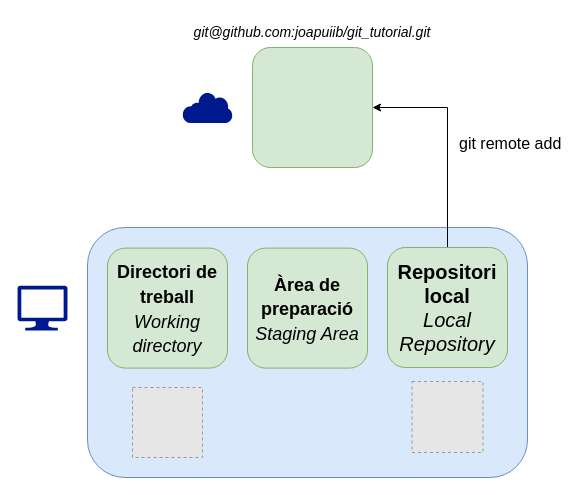
Some shapes in this 578 by 495 pixel diagram are drawn without their labels. Grey dashed boxes stand in for pictures. Each missing label, with the box of its shape:
Local - Entorn de desenvolupament: (86, 226, 528, 478)
Repositori Remot Remote Repository: (252, 46, 372, 168)
